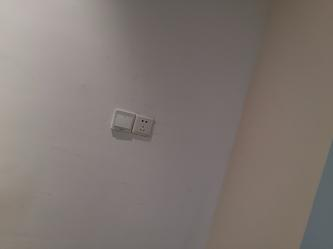switch: (114, 111, 136, 134)
